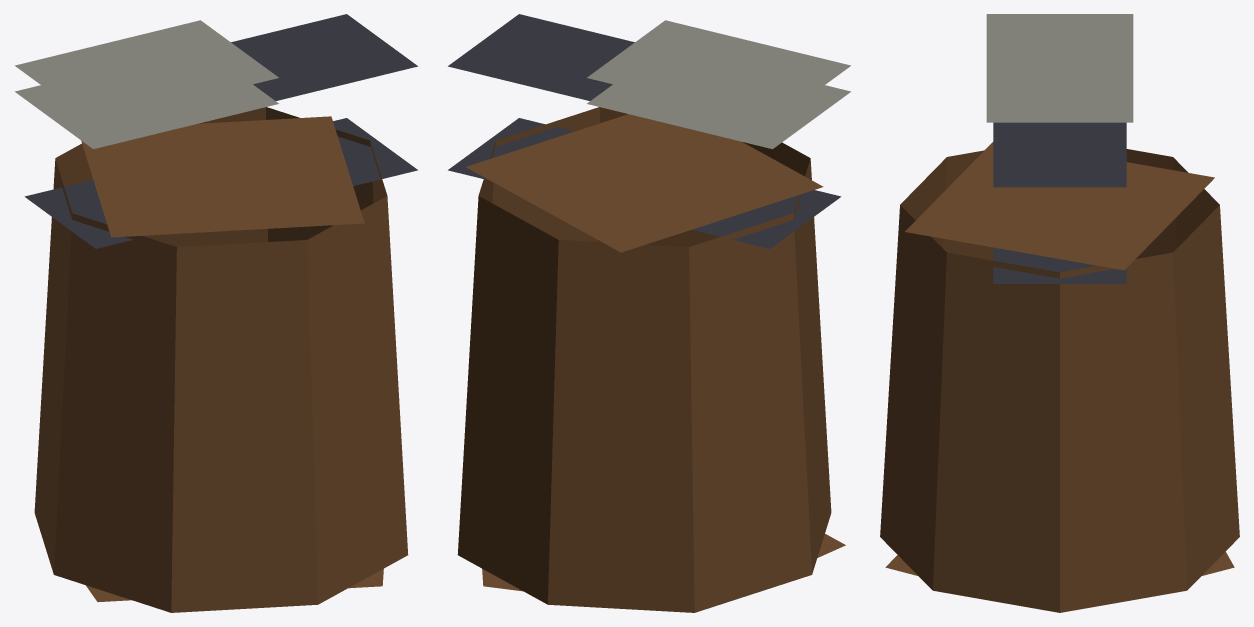
The model's file is prop_anvil_lod1.glb.
3 views of the same model, side by side, from view 1: azimuth 30°, elevation 25°; view 2: azimuth 150°, elevation 25°; view 3: azimuth 270°, elevation 25° (orthographic). The views are drawn at different scales.
Parts seen in each view (by area): view 1: prop_anvil_lod1; view 2: prop_anvil_lod1; view 3: prop_anvil_lod1.
Boxes of the visible parts, box(x1,y1,x2,y2) form: prop_anvil_lod1: box(15, 14, 417, 612); prop_anvil_lod1: box(448, 14, 850, 612); prop_anvil_lod1: box(880, 14, 1239, 612).
Size of the model in its own units: 0.54 by 0.74 by 0.54.
